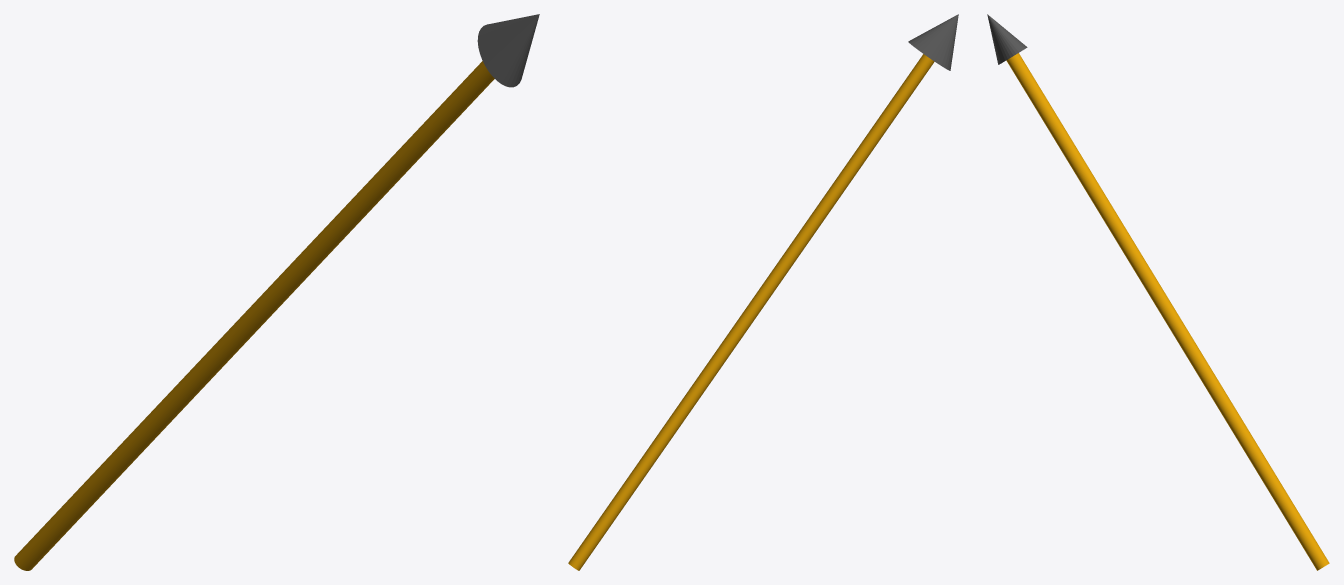
Rendered from Spear.fbx.
3 views of the same model, side by side, from view 1: azimuth 90°, elevation 25°; view 2: azimuth 150°, elevation 25°; view 3: azimuth 270°, elevation 25° (orthographic). The views are drawn at different scales.
Parts seen in each view (by area): view 1: Cylinder.005; view 2: Cylinder.005; view 3: Cylinder.005.
Boxes of the visible parts, x1=… form: Cylinder.005: x1=14, y1=14, x2=539, y2=570; Cylinder.005: x1=568, y1=14, x2=958, y2=570; Cylinder.005: x1=987, y1=14, x2=1329, y2=570.
Bounding box in the file's own units: 285 × 598 × 404.
